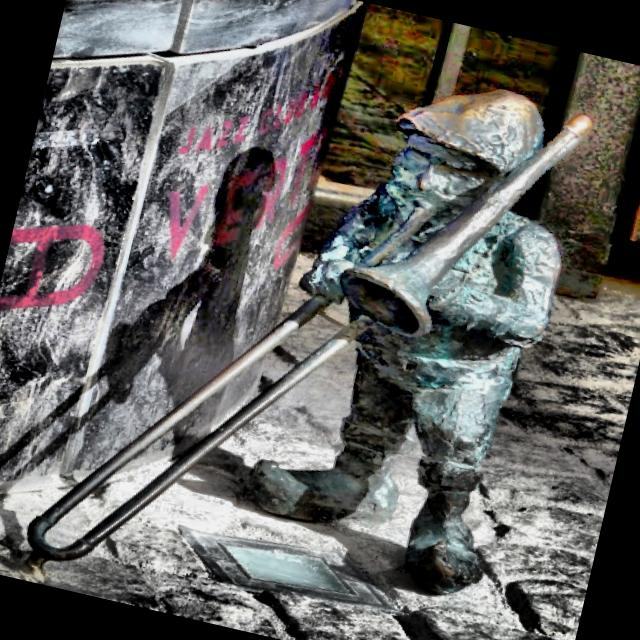Vertigus: (27, 89, 589, 592)
